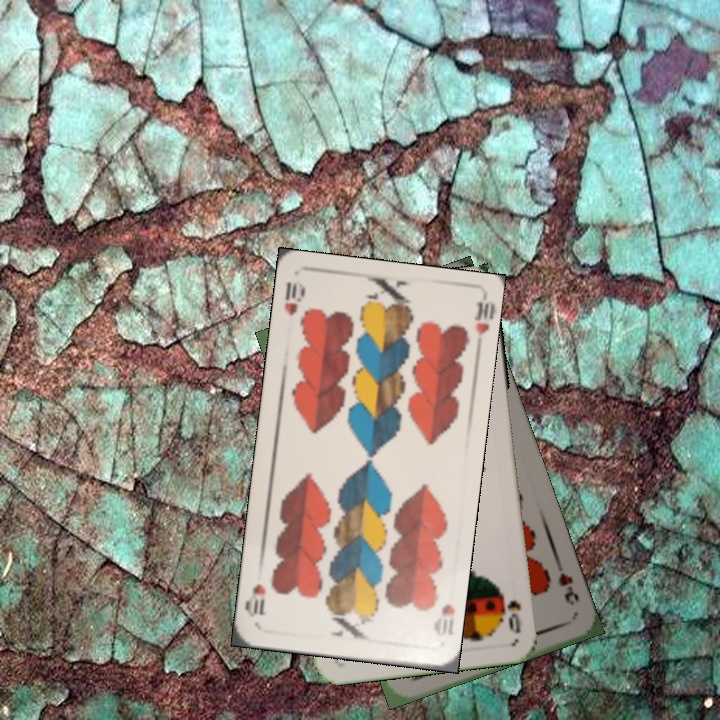H10: (280, 276, 308, 319), (429, 600, 457, 640)
H9: (552, 558, 582, 608)
SO: (498, 588, 524, 636)
